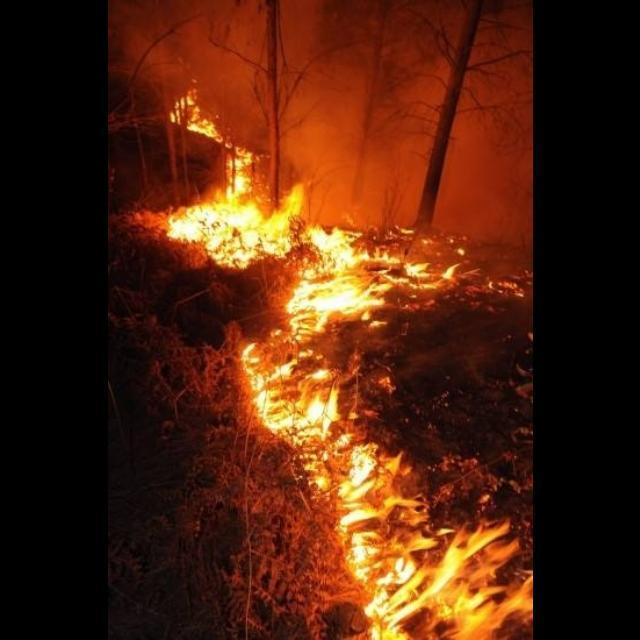Fire: (163, 86, 533, 640)
Smoke: (339, 1, 533, 209)
